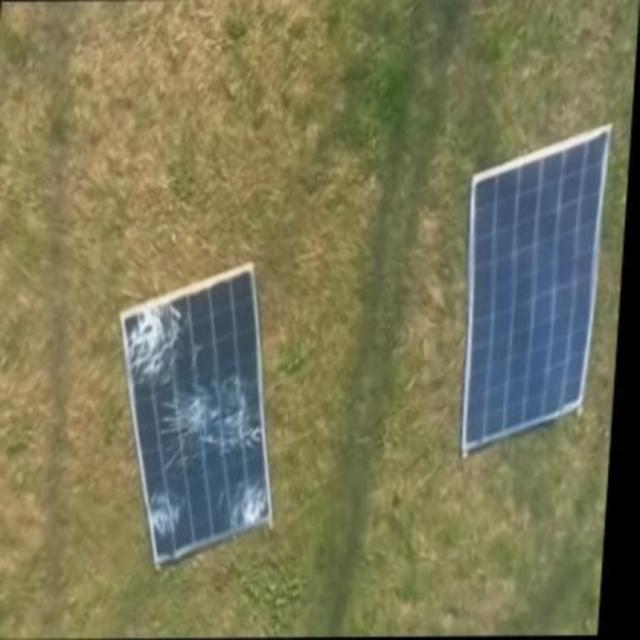cracked: (118, 264, 272, 565)
